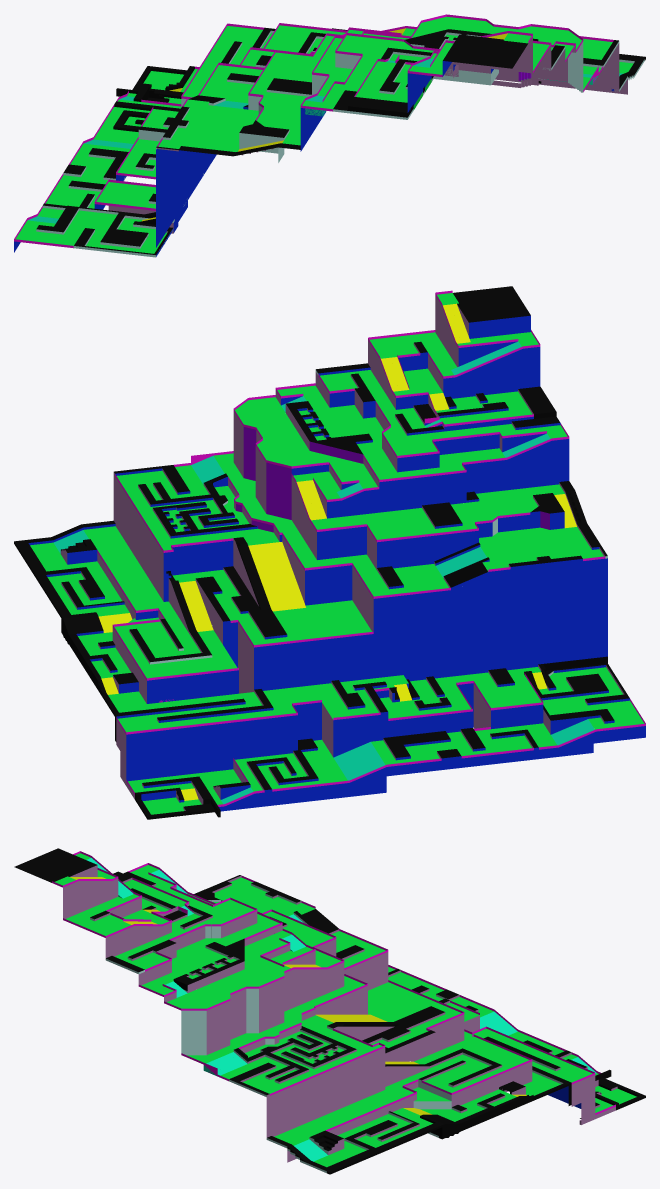
Rendered from LevelCompleteFixed.fbx.
The picture shows the model from 3 angles, top to bottom: view 1: azimuth 30°, elevation 25°; view 2: azimuth 150°, elevation 25°; view 3: azimuth 270°, elevation 25°; orthographic projection. The views are drawn at different scales.
Visible parts, largest first — view 1: Floors, Walls, Invisiwalls; view 2: Walls, Floors, Invisiwalls; view 3: Walls, Floors, Invisiwalls.
Boxes of the visible parts, bbox=[...] form: Floors: bbox=[15, 16, 633, 253]; Walls: bbox=[14, 27, 645, 257]; Invisiwalls: bbox=[14, 14, 613, 248]; Walls: bbox=[14, 286, 645, 819]; Floors: bbox=[30, 293, 644, 814]; Invisiwalls: bbox=[97, 290, 645, 806]; Walls: bbox=[14, 848, 645, 1174]; Floors: bbox=[55, 853, 636, 1167]; Invisiwalls: bbox=[52, 851, 615, 1131].
Size of the model in its own units: 283 by 115 by 283.
